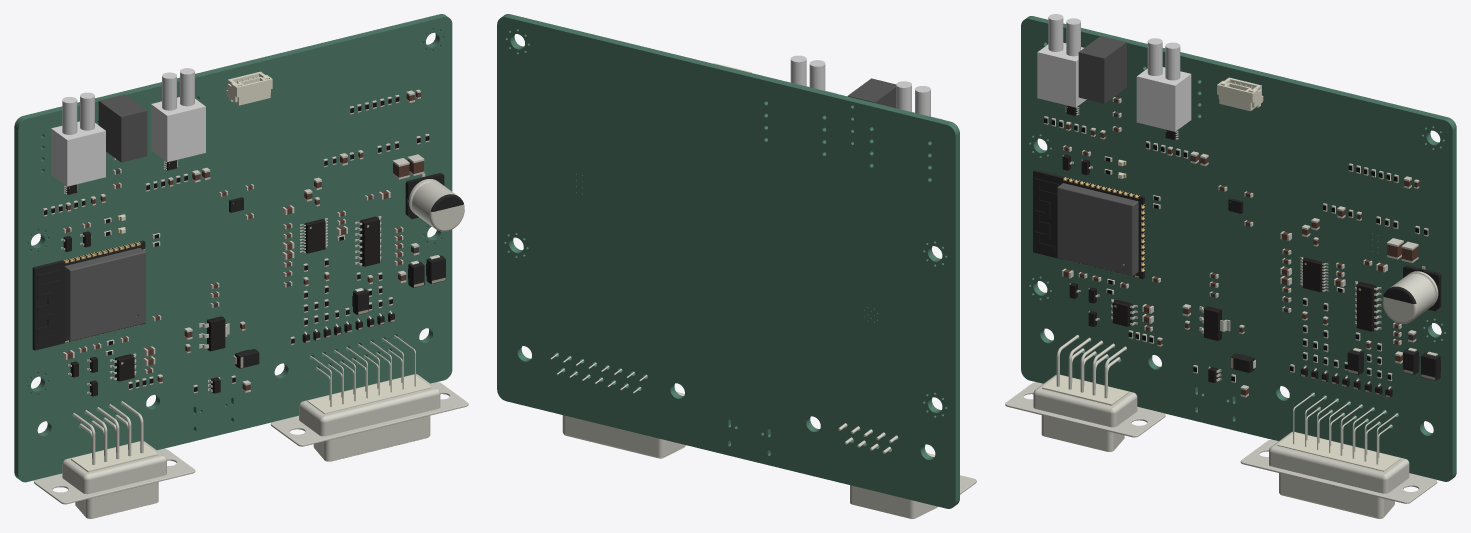
Rendered from onspeed_board.glb.
3 views of the same model, side by side, from view 1: azimuth 30°, elevation 25°; view 2: azimuth 150°, elevation 25°; view 3: azimuth 330°, elevation 25° (orthographic). The views are drawn at different scales.
Visible parts, largest first — view 1: =>[0:1:1:50], =>[0:1:1:43]_2fde26, =>[0:1:1:49]_73081a, =>[0:1:1:39]_fe3a20, U6, U5, =>[0:1:1:39]_e2b2da, U7, =>[0:1:1:43]_77c825, =>[0:1:1:9]_a8bffc, =>[0:1:1:49]_e5139f, =>[0:1:1:25]_8e0684 (+4 smaller); view 2: =>[0:1:1:50], =>[0:1:1:43]_2fde26, =>[0:1:1:49]_73081a, U5, U6, U7; view 3: =>[0:1:1:50], =>[0:1:1:43]_2fde26, =>[0:1:1:49]_73081a, =>[0:1:1:39]_fe3a20, U5, U6, =>[0:1:1:39]_e2b2da, U7, =>[0:1:1:43]_77c825, =>[0:1:1:9]_a8bffc, =>[0:1:1:49]_e5139f, =>[0:1:1:25]_8e0684 (+5 smaller).
Part boxes in pixels (x1,y1,x2,y2): =>[0:1:1:50]: (14,14,452,482); =>[0:1:1:43]_2fde26: (270,335,468,460); =>[0:1:1:49]_73081a: (34,401,195,518); =>[0:1:1:39]_fe3a20: (64,248,145,341); U6: (51,92,105,186); U5: (151,68,205,162); =>[0:1:1:39]_e2b2da: (32,240,145,350); U7: (98,94,147,162); =>[0:1:1:43]_77c825: (307,374,431,461); =>[0:1:1:9]_a8bffc: (408,173,464,231); =>[0:1:1:49]_e5139f: (71,441,158,472); =>[0:1:1:25]_8e0684: (226,72,272,105); =>[0:1:1:50]: (497,14,959,508); =>[0:1:1:43]_2fde26: (550,353,685,457); =>[0:1:1:49]_73081a: (838,423,976,518); U5: (790,55,836,93); U6: (896,81,942,119); U7: (847,78,896,108); =>[0:1:1:50]: (1021,16,1456,481); =>[0:1:1:43]_2fde26: (1240,393,1437,517); =>[0:1:1:49]_73081a: (1005,335,1165,451); =>[0:1:1:39]_fe3a20: (1057,183,1138,276); U5: (1136,38,1191,131); U6: (1037,14,1086,107); =>[0:1:1:39]_e2b2da: (1033,169,1144,278); U7: (1078,36,1126,103); =>[0:1:1:43]_77c825: (1277,432,1400,518); =>[0:1:1:9]_a8bffc: (1382,266,1438,323); =>[0:1:1:49]_e5139f: (1042,375,1128,405); =>[0:1:1:25]_8e0684: (1217,78,1263,111).
Size of the model in its own units: 0.1 by 0.09 by 0.0164.
